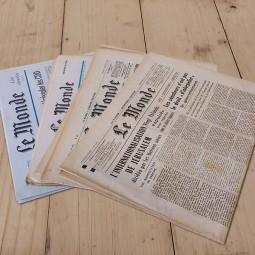paper: (28, 49, 255, 244), (0, 62, 50, 202)
